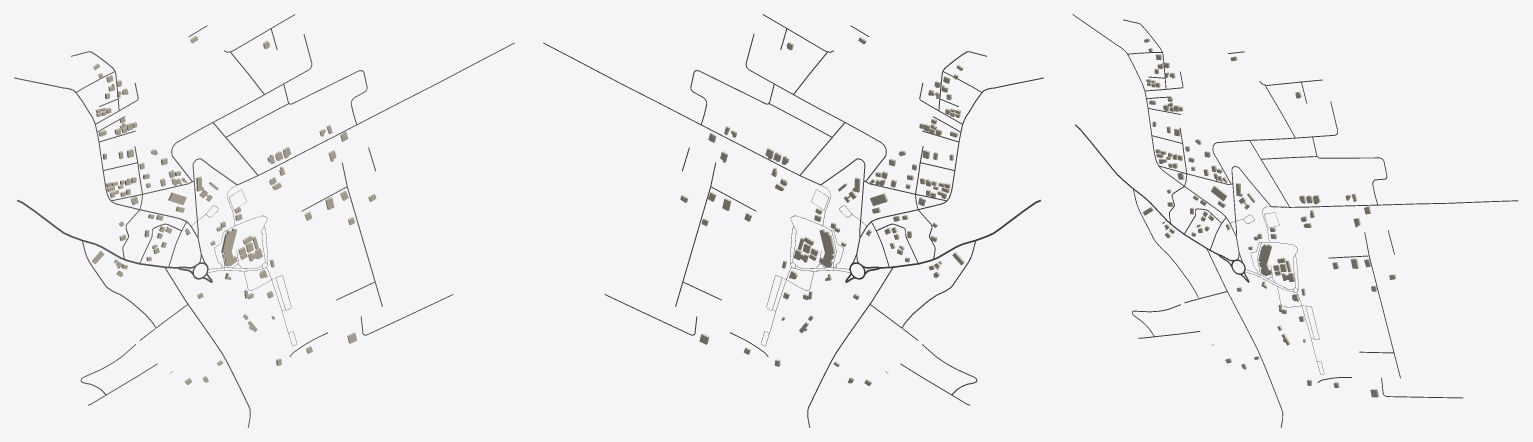
Rendered from irbid_3586_3250.glb.
3 views of the same model, side by side, from view 1: azimuth 30°, elevation 25°; view 2: azimuth 150°, elevation 25°; view 3: azimuth 330°, elevation 25° (orthographic). The views are drawn at different scales.
Parts seen in each view (by area): view 1: Road .002, Road .039; view 2: Road .002, Road .039; view 3: Road .002.
Part boxes in pixels (left/top/right/bottom): Road .002: left=14, top=77, right=201, bottom=253; Road .039: left=237, top=42, right=514, bottom=185; Road .002: left=856, top=77, right=1043, bottom=253; Road .039: left=543, top=42, right=820, bottom=185; Road .002: left=1072, top=14, right=1239, bottom=252.
Bounding box in the file's own units: 1652 × 1310 × 8.7.
